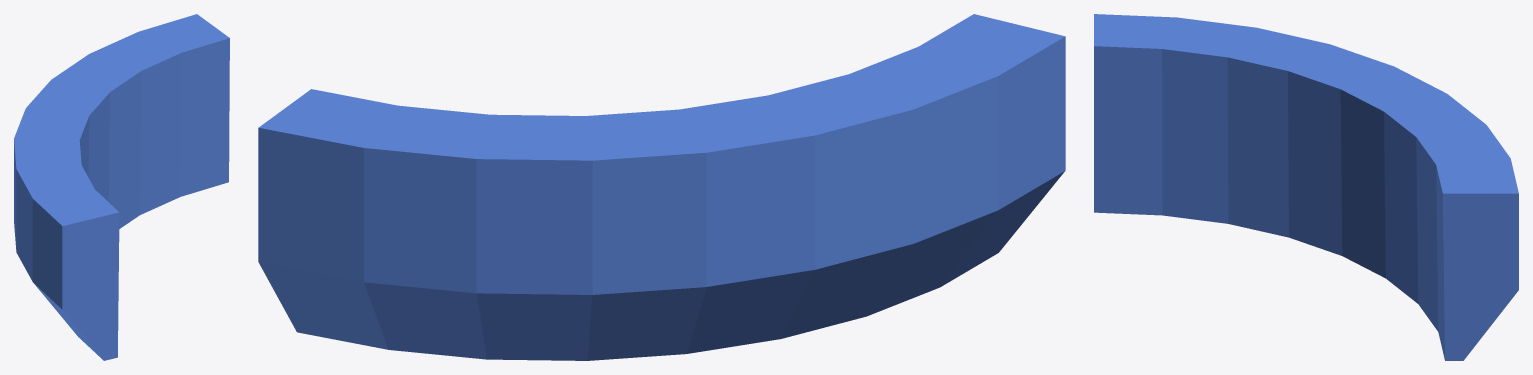
Rendered from TopWindow_Corner_Curve_Outer_Collision.fbx.
3 renders of one model, left to right at view 1: azimuth 30°, elevation 25°; view 2: azimuth 150°, elevation 25°; view 3: azimuth 270°, elevation 25°, orthographic. The views are drawn at different scales.
Visible parts, largest first — view 1: TopWindow_Corner_Curve_Outer_Collision; view 2: TopWindow_Corner_Curve_Outer_Collision; view 3: TopWindow_Corner_Curve_Outer_Collision.
Part boxes in pixels (x1,y1,x2,y2): TopWindow_Corner_Curve_Outer_Collision: (14,14,229,360); TopWindow_Corner_Curve_Outer_Collision: (258,14,1065,360); TopWindow_Corner_Curve_Outer_Collision: (1094,14,1518,360).
Bounding box in the file's own units: 460 × 200 × 460.
